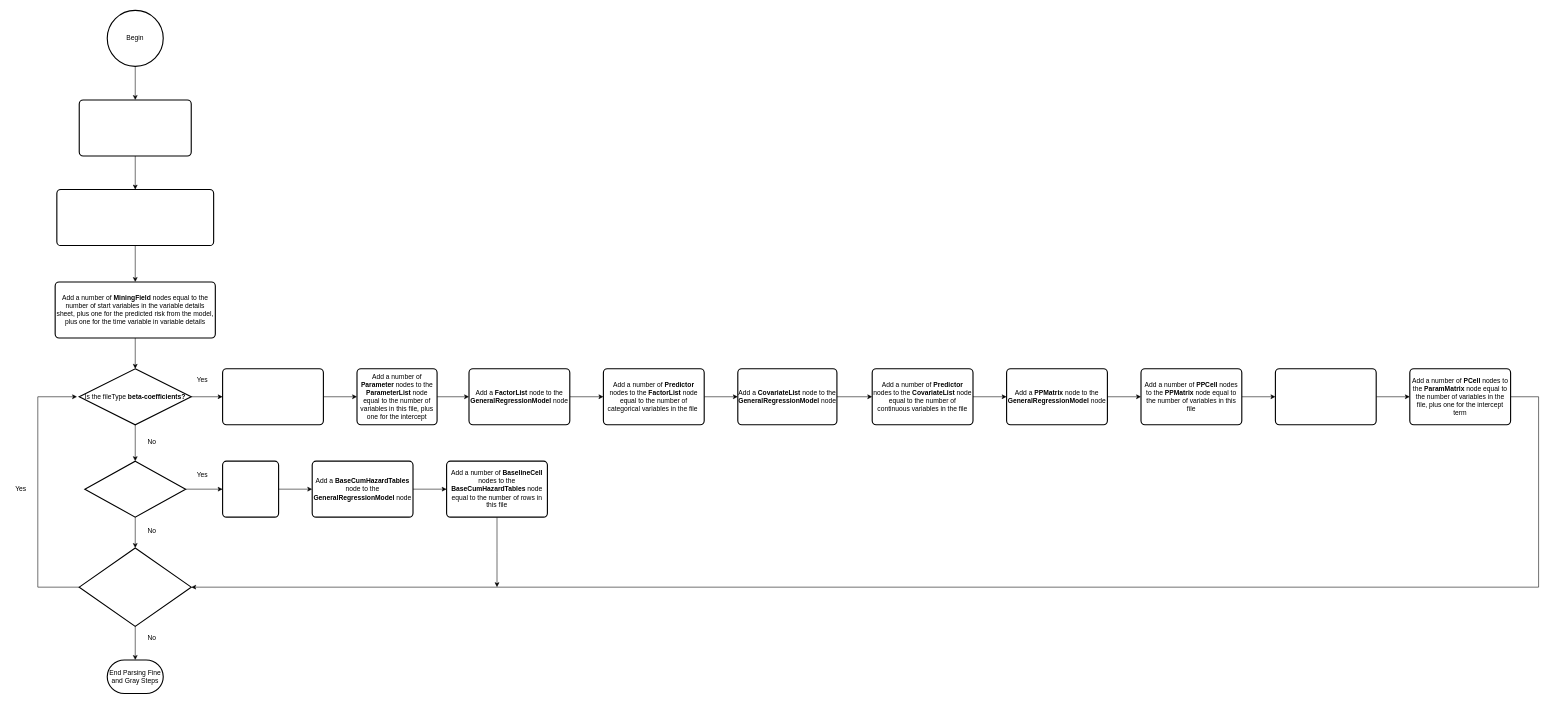
Some shapes in this 1553 by 703 pixel diagram are drawn without their labels. Here are the shapes that lost their labels. From the top down, the centre of each, then its label:
At pixel 135 127: "Add a GeneralRegressionModel node to the XML document".
At pixel 135 217: "Add a MiningSchema node within the GeneralRegressionModel node.".
At pixel 273 396: "Add a ParameterList node to the GeneralRegressionModel node".
At pixel 1325 396: "Add a ParamMatrix node to the GeneralRegressionModel node".
At pixel 135 488: "Is the fileType baseline-hazards ?".
At pixel 250 488: "Get the rows for the time variable from the variable details sheet".
At pixel 135 587: "Is the step column of the next row fine-and-gray?".
